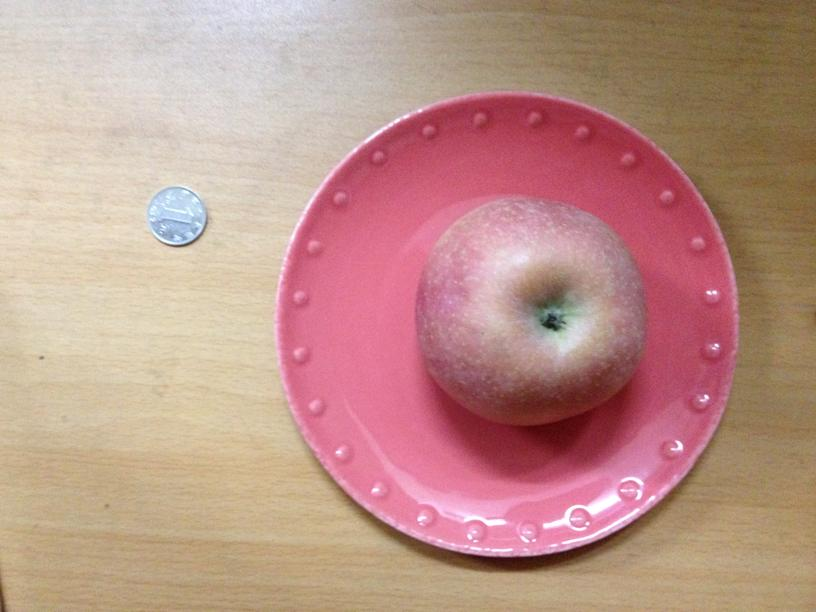apple: (411, 192, 648, 427)
coin: (146, 185, 208, 247)
